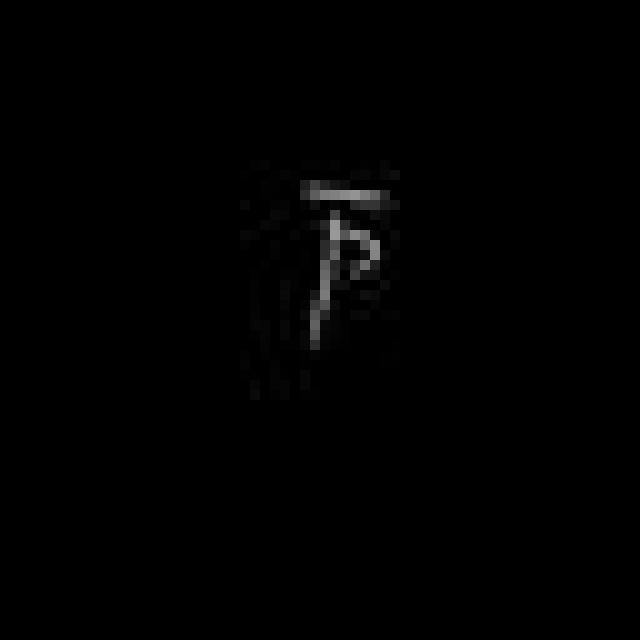10000 -a ten thousand-: (284, 165, 396, 350)
